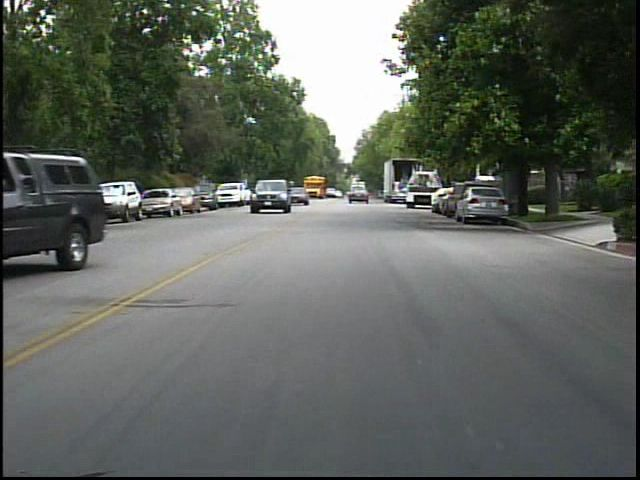car: (10, 154, 107, 270), (458, 185, 509, 230), (249, 176, 290, 217), (99, 176, 139, 217), (139, 187, 181, 219), (347, 183, 372, 205)
strada: (13, 247, 640, 472)
